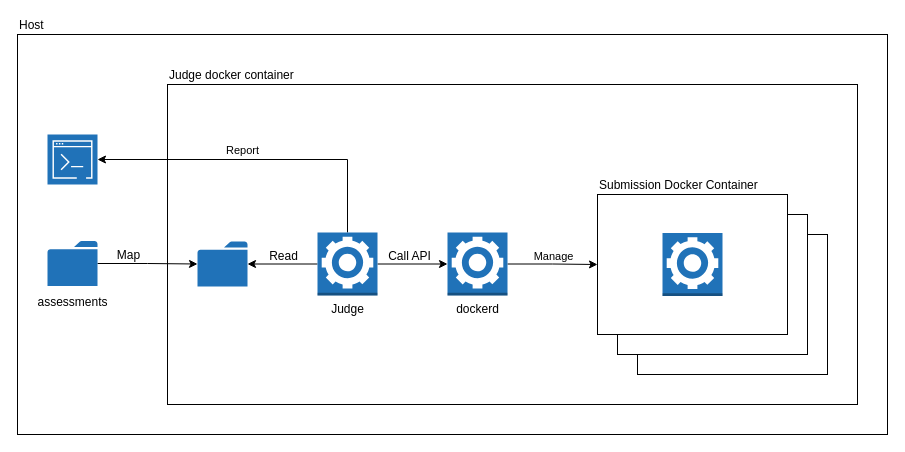
The diagram is 905 pixels wide and 452 high, and some of its shapes have lost their labels. The centre of each missing label's shape, as x and y in pixels:
"/app/assessments" belongs at point 222,263.
"stdout" belongs at point 72,159.
"Submission" belongs at point 692,264.
